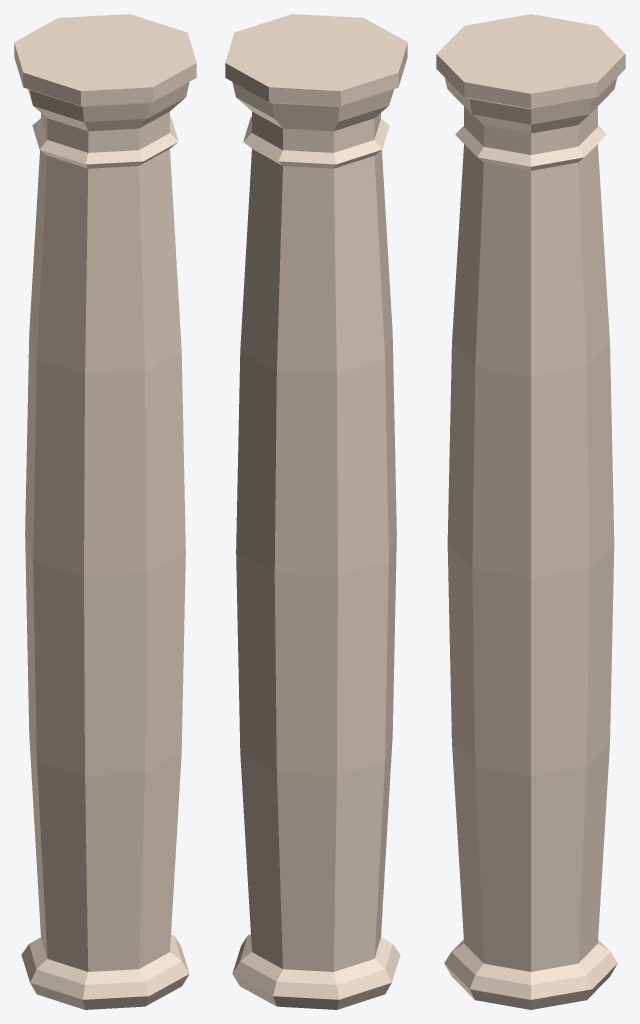
Rendered from empire-pillar-tuscan-big-empire.glb.
3 views of the same model, side by side, from view 1: azimuth 30°, elevation 25°; view 2: azimuth 150°, elevation 25°; view 3: azimuth 270°, elevation 25° (orthographic).
Parts seen in each view (by area): view 1: SM_Pillar_Tuscan_Big_Empire; view 2: SM_Pillar_Tuscan_Big_Empire; view 3: SM_Pillar_Tuscan_Big_Empire.
Boxes of the visible parts, left/top/right/bottom form: SM_Pillar_Tuscan_Big_Empire: left=14, top=14, right=196, bottom=1009; SM_Pillar_Tuscan_Big_Empire: left=225, top=14, right=407, bottom=1009; SM_Pillar_Tuscan_Big_Empire: left=436, top=14, right=625, bottom=1009.
Size of the model in its own units: 1.86 by 10 by 1.86.
